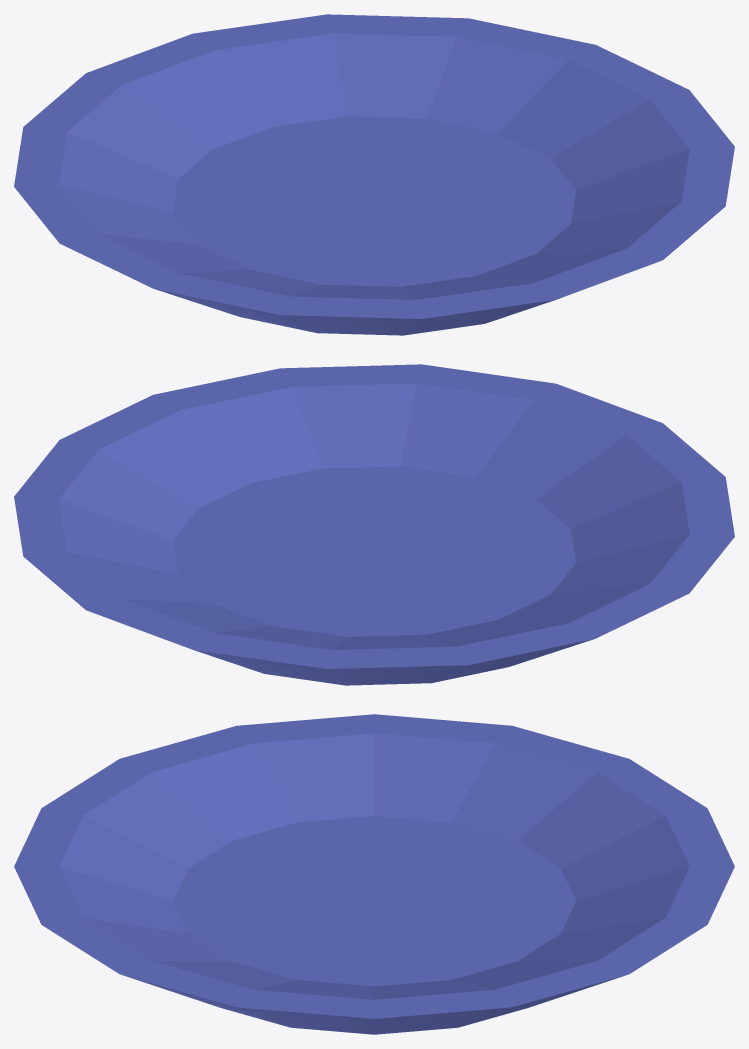
File: blockout_Plate_Big.fbx
3 renders of one model, top to bottom at view 1: azimuth 30°, elevation 25°; view 2: azimuth 150°, elevation 25°; view 3: azimuth 270°, elevation 25°, orthographic.
Visible parts, largest first — view 1: blockout_Big_Plate; view 2: blockout_Big_Plate; view 3: blockout_Big_Plate.
Boxes of the visible parts, box(x1,y1,x2,y2) form: blockout_Big_Plate: box(14, 14, 734, 335); blockout_Big_Plate: box(14, 364, 734, 685); blockout_Big_Plate: box(14, 714, 734, 1034).
Bounding box in the file's own units: 39.09 × 4.53 × 39.09.
Materials: 1 (1 with a texture image).
